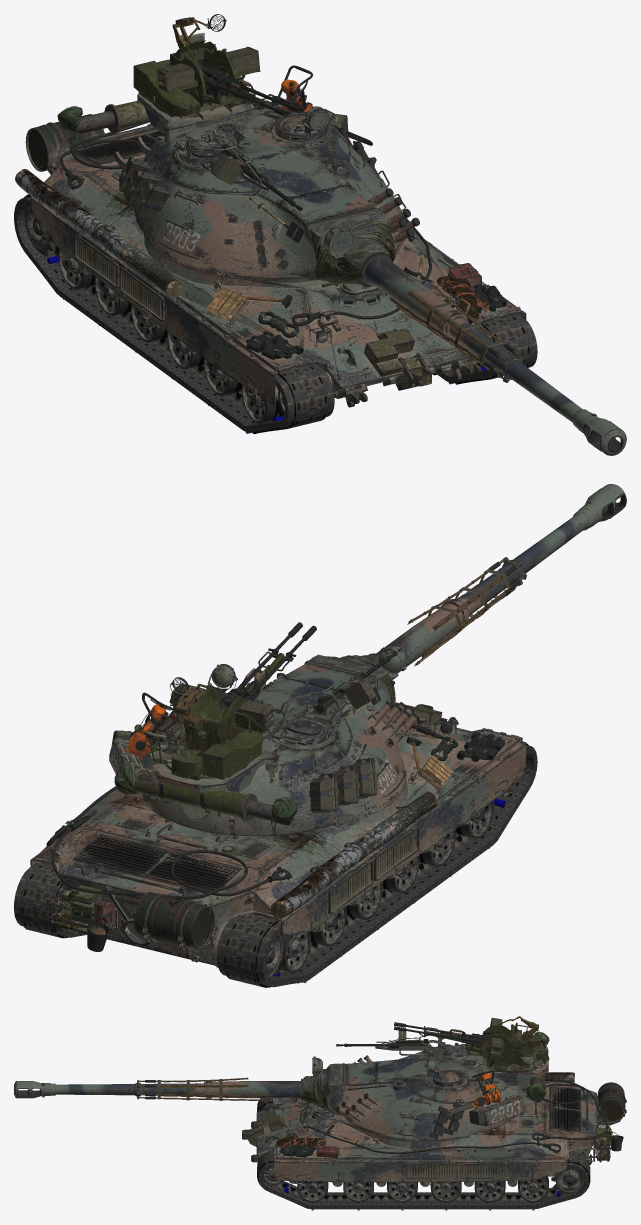
3 views of the same model, one above another, from view 1: azimuth 30°, elevation 25°; view 2: azimuth 150°, elevation 25°; view 3: azimuth 270°, elevation 25° (orthographic). The views are drawn at different scales.
Parts seen in each view (by area): view 1: poland\Pl15_60TP_Lewandowskiego\_skins\Pl15_60TP_Lewandowski (×7); view 2: poland\Pl15_60TP_Lewandowskiego\_skins\Pl15_60TP_Lewandowski (×7); view 3: poland\Pl15_60TP_Lewandowskiego\_skins\Pl15_60TP_Lewandowski (×6).
Part boxes in pixels (x1=…): poland\Pl15_60TP_Lewandowskiego\_skins\Pl15_60TP_Lewandowski (×7): x1=14, y1=14, x2=626, y2=455; poland\Pl15_60TP_Lewandowskiego\_skins\Pl15_60TP_Lewandowski (×7): x1=14, y1=484, x2=626, y2=987; poland\Pl15_60TP_Lewandowskiego\_skins\Pl15_60TP_Lewandowski (×6): x1=14, y1=1016, x2=626, y2=1209.
Bounding box in the file's own units: 4 × 3.8 × 13.3.
